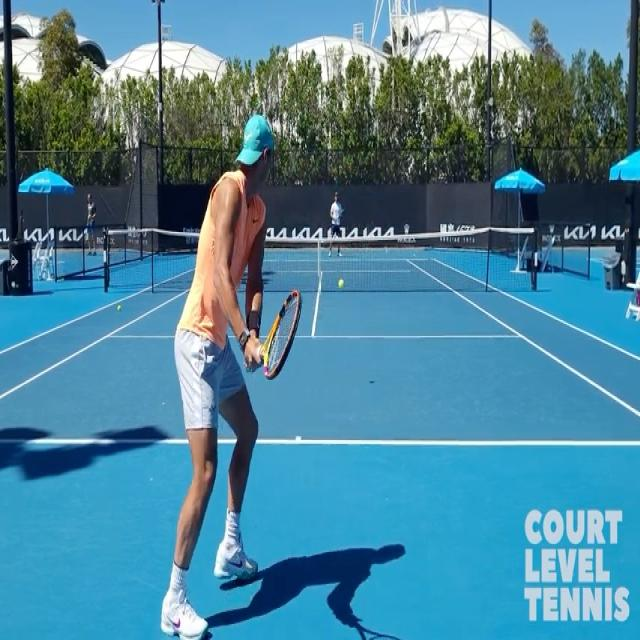backhand-ready: (162, 106, 308, 640)
